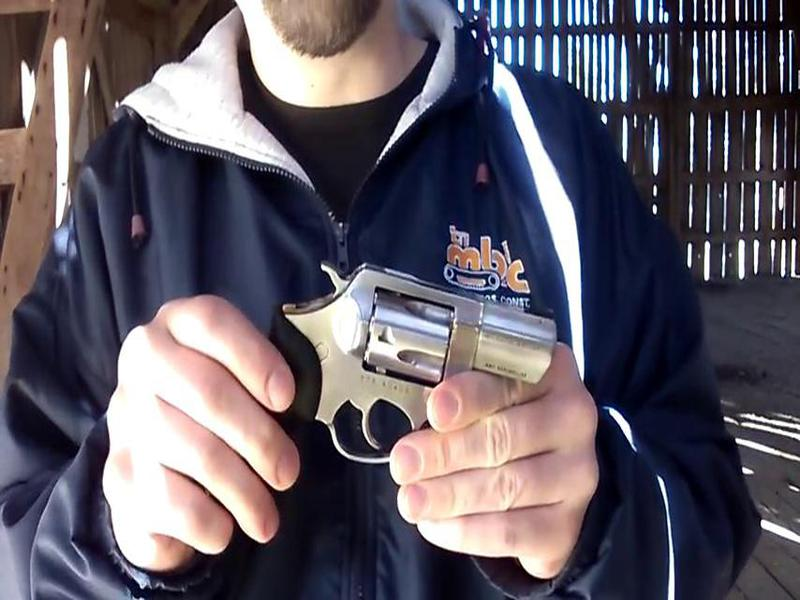Revolver: (266, 234, 570, 466)
